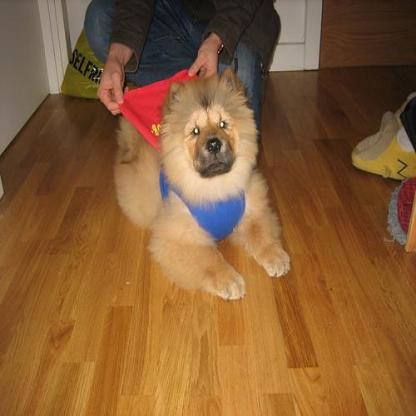chow: (114, 66, 291, 300)
